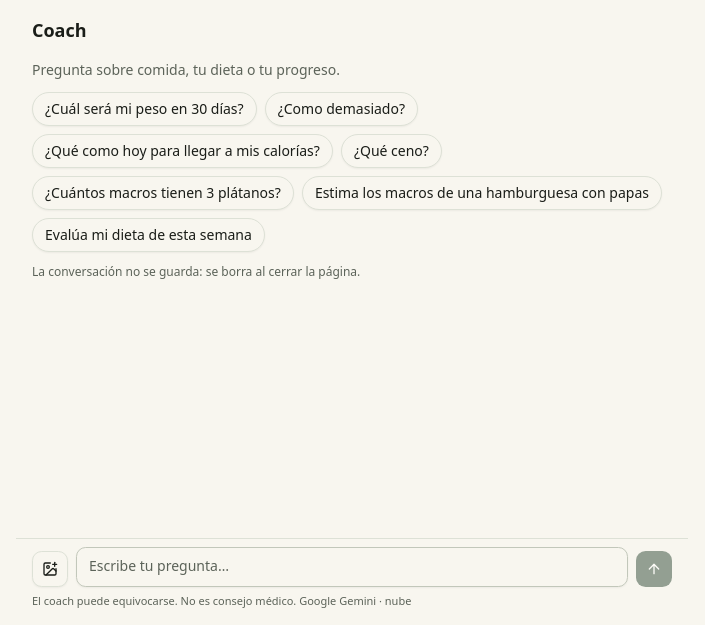
Test: Coach › envía una pregunta de ejemplo con tus datos y muestra la respuesta por trozos
This screenshot has width=705, height=625.
Click the button "¿Cuál será mi peso en 30 días?" at [144, 109], box [32,92,257,126]
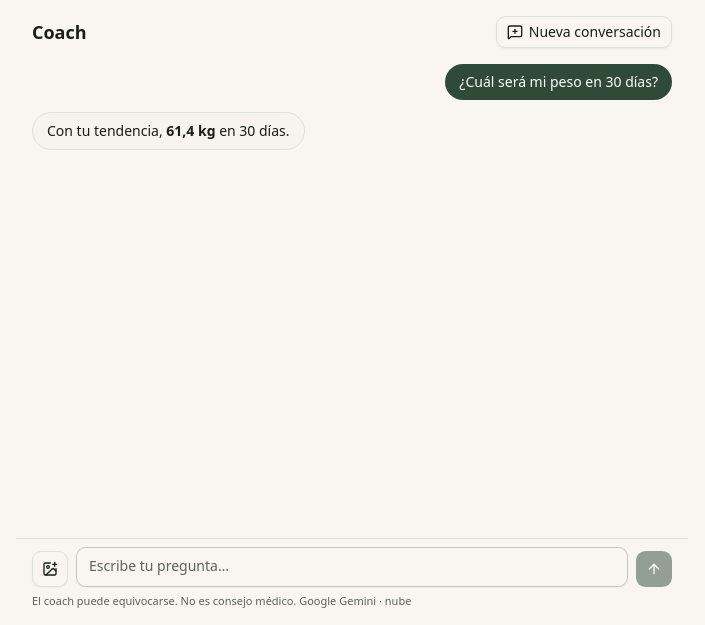
Expected: the text "¿Cuál será mi peso en 30 días?" is shown, [459,72,658,92]
Now the text "61,4 kg" is shown, box [166,121,216,140]
